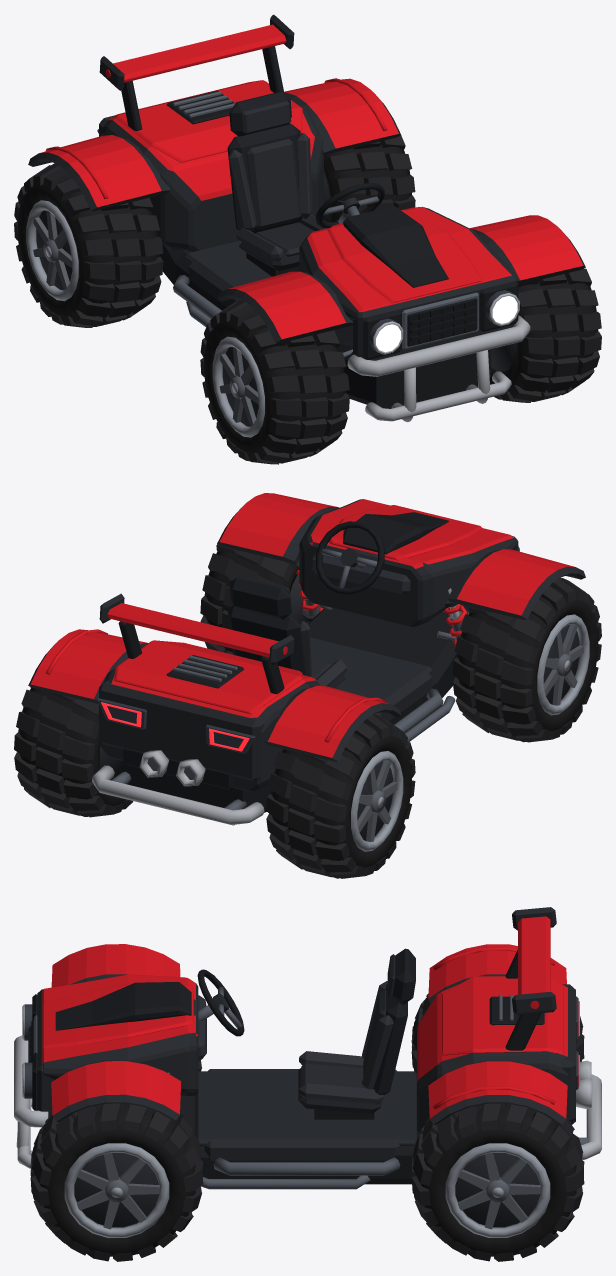
Rendered from OffroadKart_Open.glb.
The picture shows the model from 3 angles, top to bottom: view 1: azimuth 30°, elevation 25°; view 2: azimuth 150°, elevation 25°; view 3: azimuth 270°, elevation 25°; orthographic projection. The views are drawn at different scales.
Visible parts, largest first — view 1: Wheel_FR, Wheel_RR, Wheel_FL, Rear_Engine_Deck, Front_Hood, Right_Rear_Fender, Undercarriage, Right_Front_Fender, Wheel_RL, Rear_Red_Deck, Left_Rear_Fender, Racing_Red_Hood_Stripe (+28 smaller); view 2: Wheel_FR, Wheel_RR, Wheel_RL, Front_Hood, Undercarriage, Rear_CharcoalFascia, Rear_Red_Deck, Right_Rear_Fender, Right_Front_Fender, Left_Front_Fender, Left_Rear_Fender, Wheel_FL (+21 smaller); view 3: Wheel_FL, Wheel_RL, Cockpit_Floor, Front_Hood, Rear_Red_Deck, Left_Rear_Fender, Left_Front_Fender, Rear_Engine_Deck, Charcoal_Center_Cowl, Left_Lower_Side_Panel, Right_Front_Fender, Racing_Red_Hood_Stripe (+25 smaller).
Part boxes in pixels (x1=…): Wheel_FR: x1=200, y1=300, x2=349, y2=464; Wheel_RR: x1=14, y1=163, x2=163, y2=327; Wheel_FL: x1=489, y1=268, x2=601, y2=402; Rear_Engine_Deck: x1=99, y1=100, x2=323, y2=251; Front_Hood: x1=299, y1=206, x2=516, y2=321; Right_Rear_Fender: x1=28, y1=135, x2=170, y2=211; Undercarriage: x1=160, y1=244, x2=491, y2=408; Right_Front_Fender: x1=217, y1=271, x2=352, y2=343; Wheel_RL: x1=322, y1=135, x2=415, y2=222; Rear_Red_Deck: x1=114, y1=80, x2=302, y2=162; Left_Rear_Fender: x1=284, y1=78, x2=400, y2=154; Racing_Red_Hood_Stripe: x1=327, y1=210, x2=482, y2=303; Wheel_FR: x1=452, y1=577, x2=601, y2=742; Wheel_RR: x1=266, y1=714, x2=415, y2=878; Wheel_RL: x1=14, y1=687, x2=133, y2=817; Front_Hood: x1=299, y1=499, x2=517, y2=627; Undercarriage: x1=122, y1=605, x2=469, y2=825; Rear_CharcoalFascia: x1=99, y1=680, x2=264, y2=781; Rear_Red_Deck: x1=114, y1=640, x2=302, y2=714; Right_Rear_Fender: x1=263, y1=685, x2=401, y2=761; Right_Front_Fender: x1=447, y1=549, x2=585, y2=619; Left_Front_Fender: x1=217, y1=493, x2=339, y2=564; Left_Rear_Fender: x1=28, y1=629, x2=148, y2=703; Wheel_FL: x1=200, y1=544, x2=307, y2=654; Wheel_FL: x1=30, y1=1103, x2=203, y2=1261; Wheel_RL: x1=411, y1=1103, x2=584, y2=1261; Cockpit_Floor: x1=194, y1=1071, x2=416, y2=1146; Front_Hood: x1=42, y1=974, x2=198, y2=1095; Rear_Red_Deck: x1=442, y1=976, x2=563, y2=1055; Left_Rear_Fender: x1=428, y1=1060, x2=567, y2=1124; Left_Front_Fender: x1=51, y1=1060, x2=181, y2=1122; Rear_Engine_Deck: x1=417, y1=983, x2=571, y2=1135; Charcoal_Center_Cowl: x1=55, y1=982, x2=191, y2=1030; Left_Lower_Side_Panel: x1=204, y1=1140, x2=400, y2=1160; Right_Front_Fender: x1=51, y1=944, x2=180, y2=987; Racing_Red_Hood_Stripe: x1=42, y1=983, x2=193, y2=1048.
Bounding box in the file's own units: 8 × 5.37 × 11.97.
Materials: 3 (1 with a texture image).
